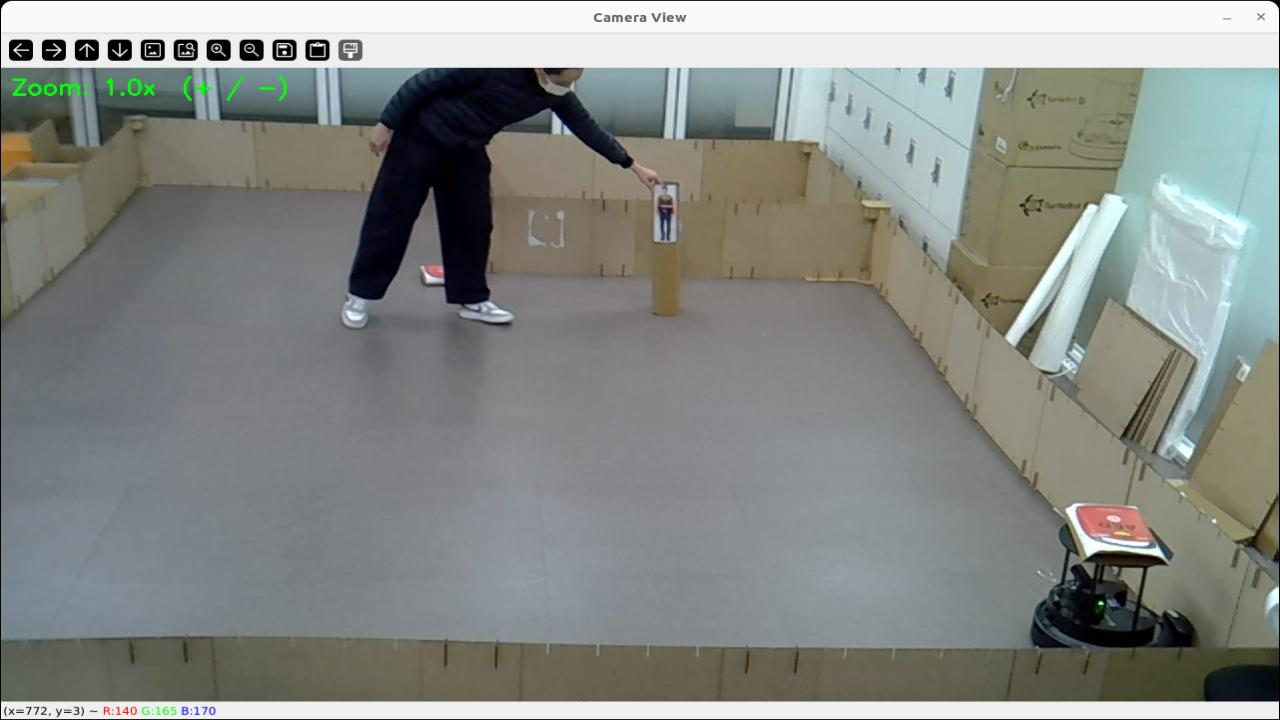Responder: (657, 186, 675, 241)
